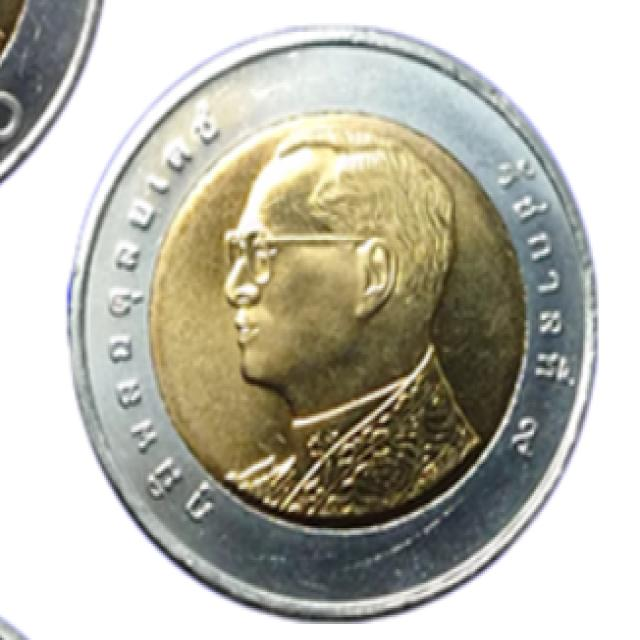10 Bath: (62, 1, 617, 637)
